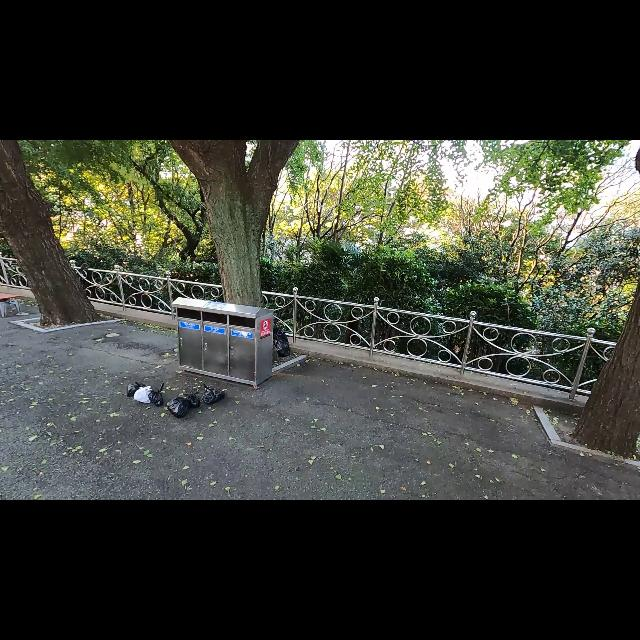trash: (272, 322, 294, 358), (166, 394, 194, 421), (199, 382, 227, 402), (134, 383, 154, 407), (149, 380, 167, 406), (126, 378, 150, 396), (182, 389, 202, 409)
